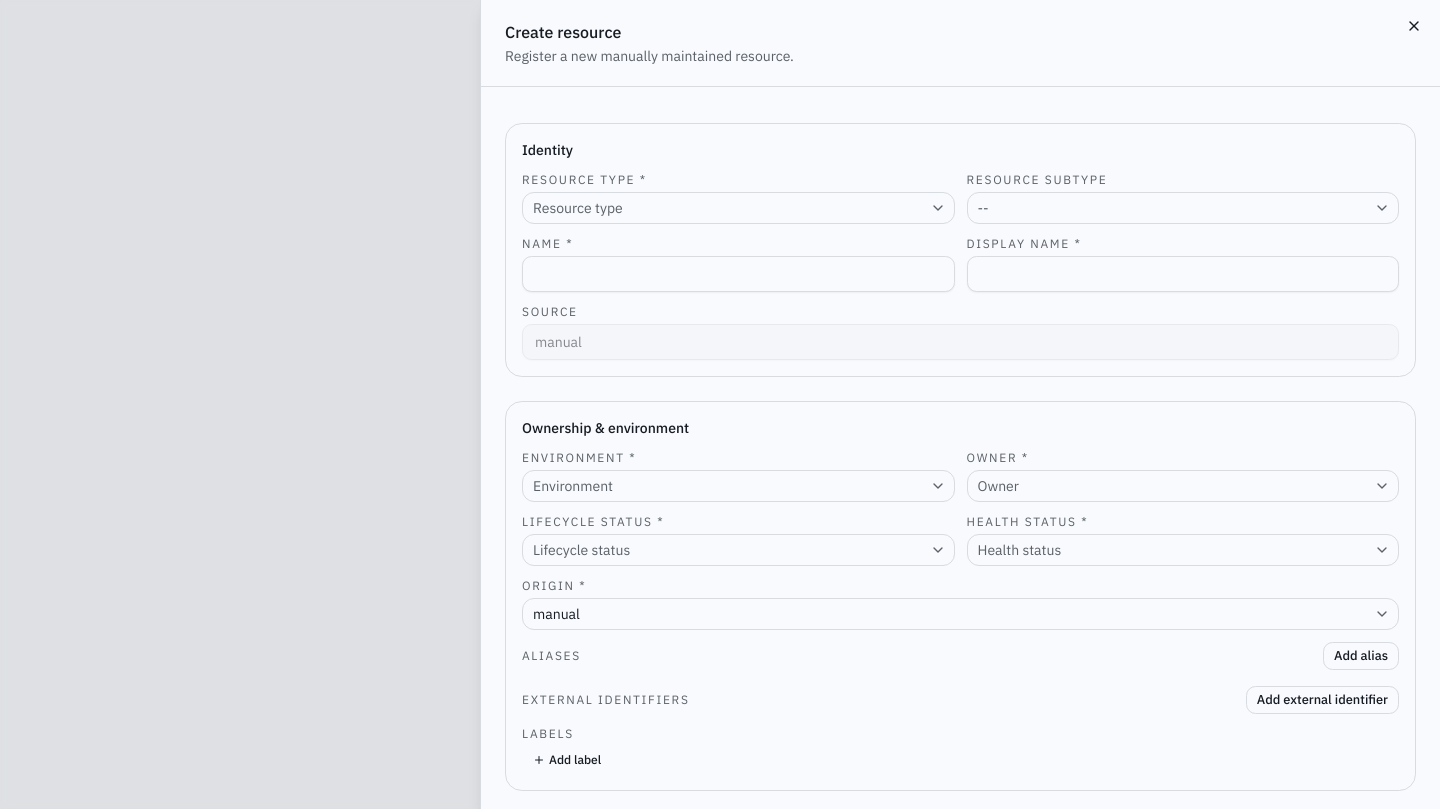
Test: CreateResourceSheet › shows required FQDN field for Domain Name
What coordinates should you click on to do the following:
click the dropdown labelled "Resource type ▼"
I would click on:
 (578, 208)
Its box is [522,192,954,224].
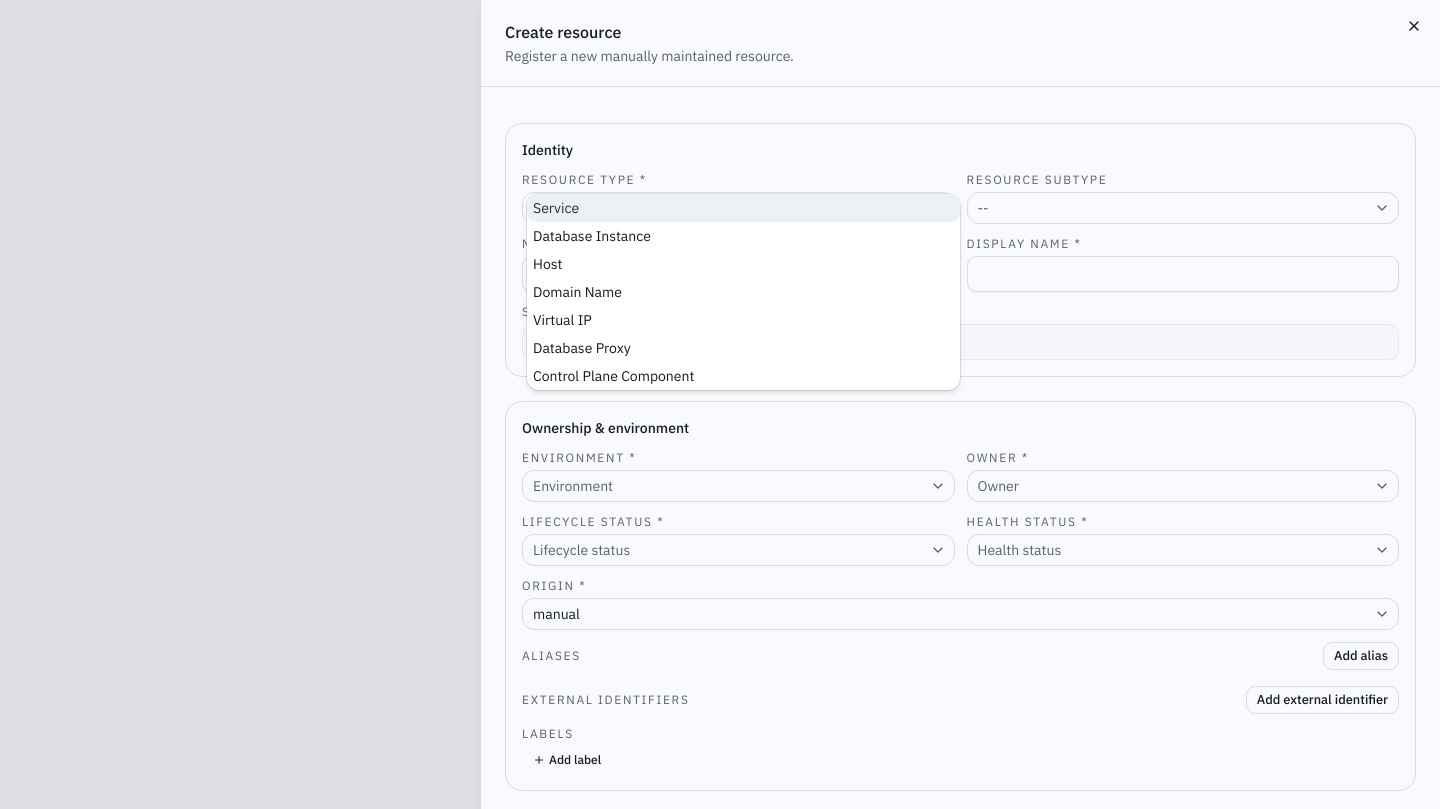
What coordinates should you click on to do the following:
click the option "Domain Name"
I would click on:
 (578, 292)
Its box is [533,283,622,301].
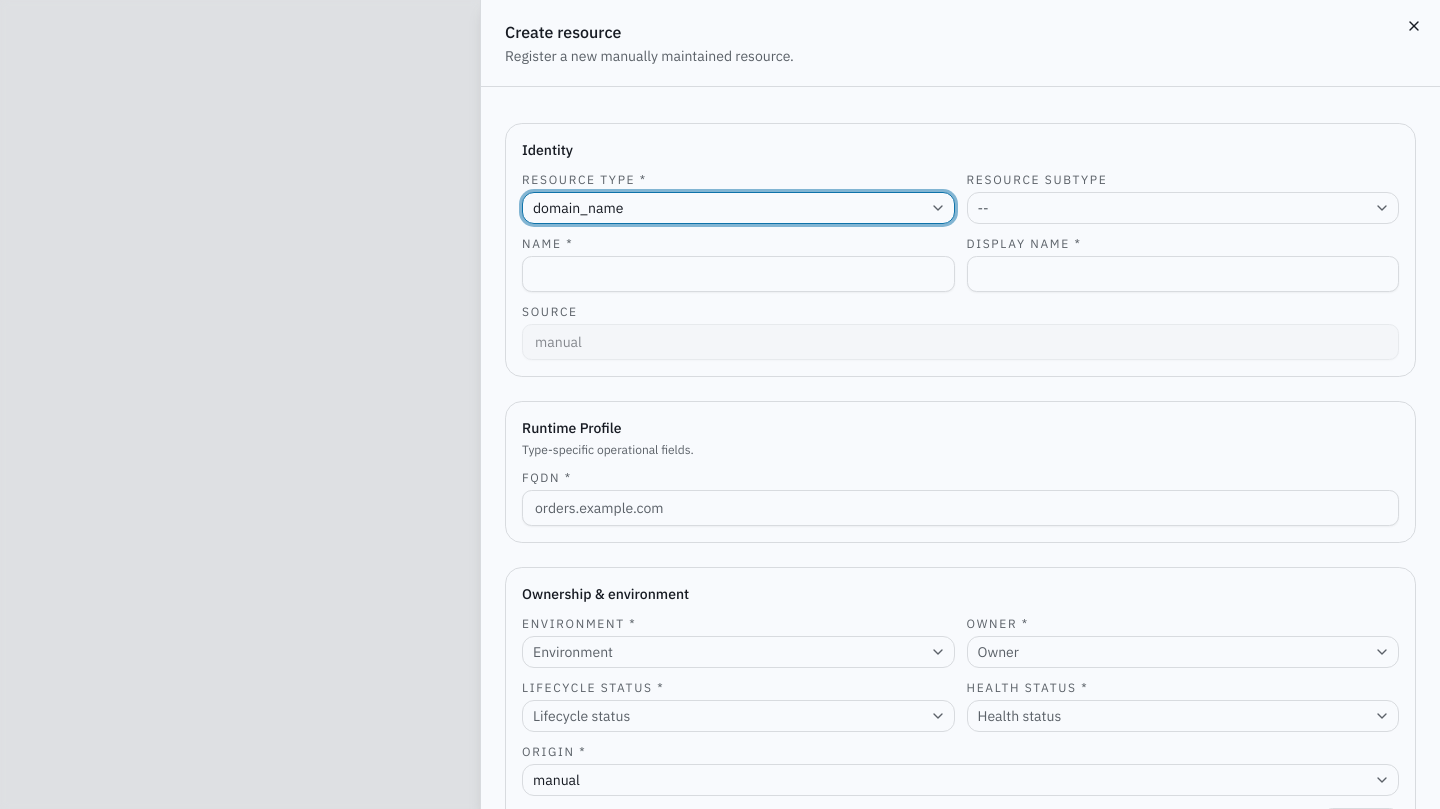
Expected: the heading "Runtime Profile" is shown, [522,419,622,437]
Expected: the text "FQDN *" is shown, [522,470,572,485]
